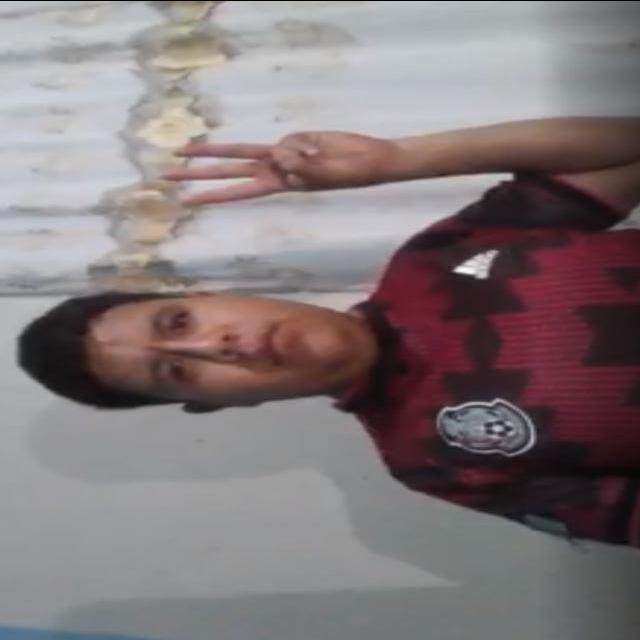W: (154, 121, 390, 224)
